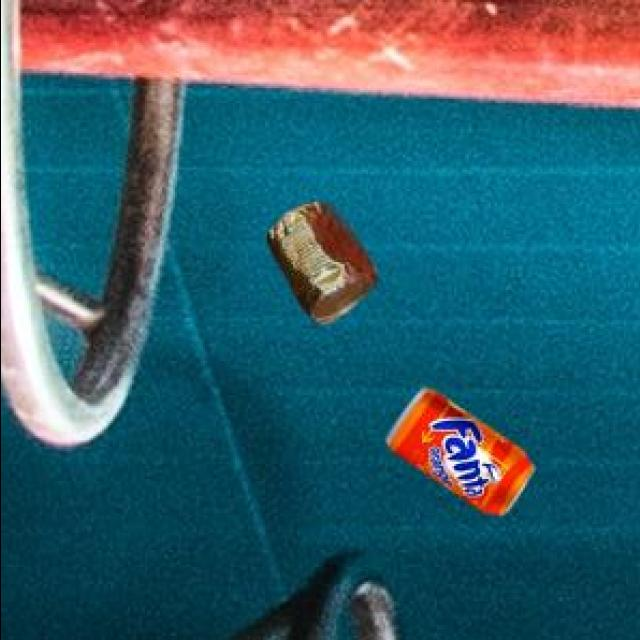logam: (388, 386, 536, 512), (270, 199, 379, 321)
